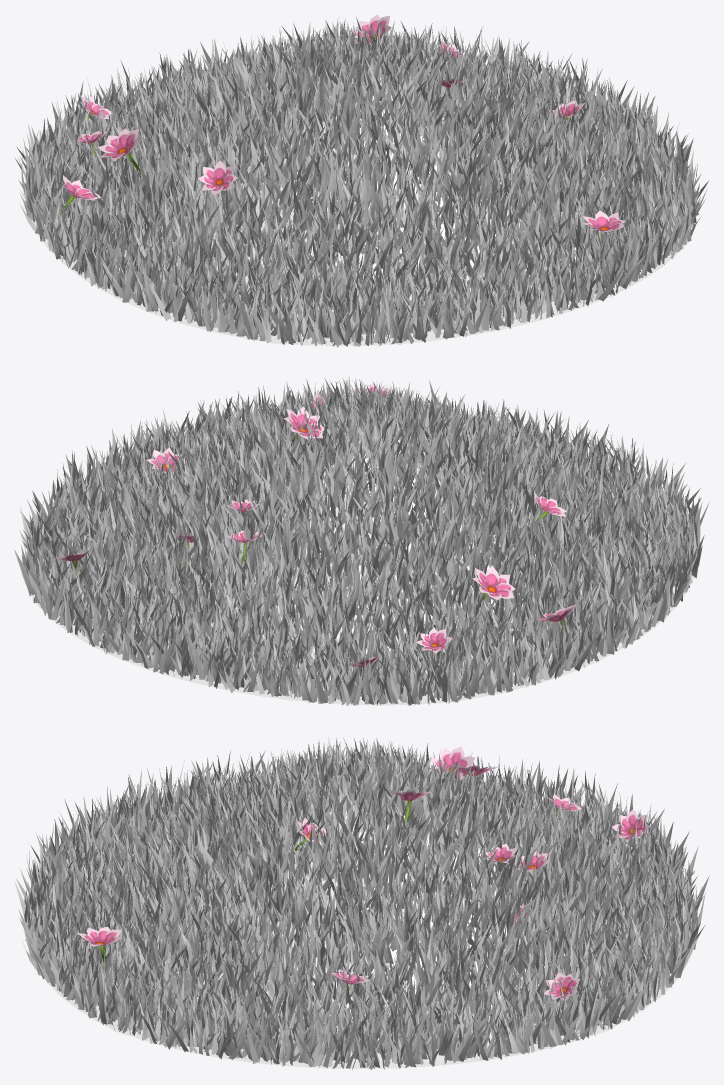
Rendered from hill.glb.
3 views of the same model, one above another, from view 1: azimuth 30°, elevation 25°; view 2: azimuth 150°, elevation 25°; view 3: azimuth 270°, elevation 25° (orthographic). The views are drawn at different scales.
Parts seen in each view (by area): view 1: Hill; view 2: Hill; view 3: Hill.
Boxes of the visible parts, bbox=[...] form: Hill: bbox=[14, 14, 708, 347]; Hill: bbox=[14, 376, 709, 705]; Hill: bbox=[14, 737, 709, 1069].
Bounding box in the file's own units: 1.89 × 0.5307 × 1.9.
Materials: 3 (1 with a texture image).
